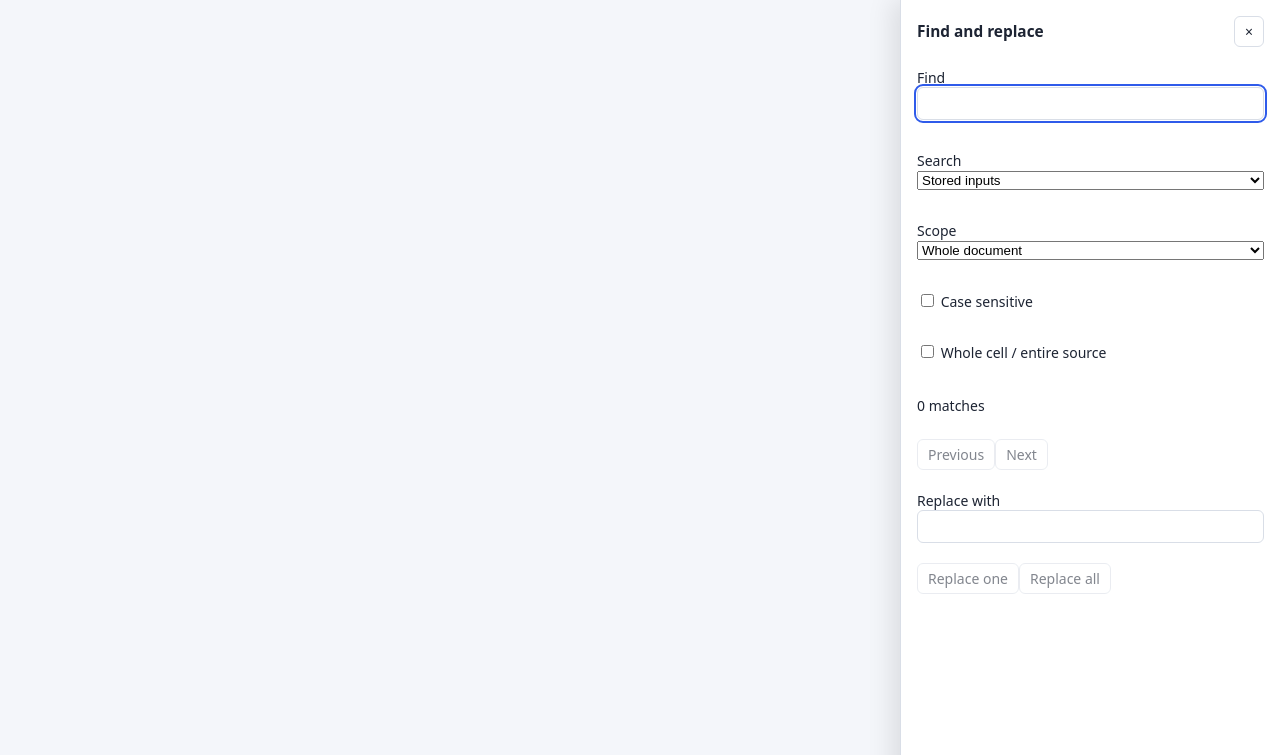
Test: filters by page and block and searches every stored source
Type "cat" into the field named "Find text" at coordinates (1090, 103), box 917,86 -> 1264,120
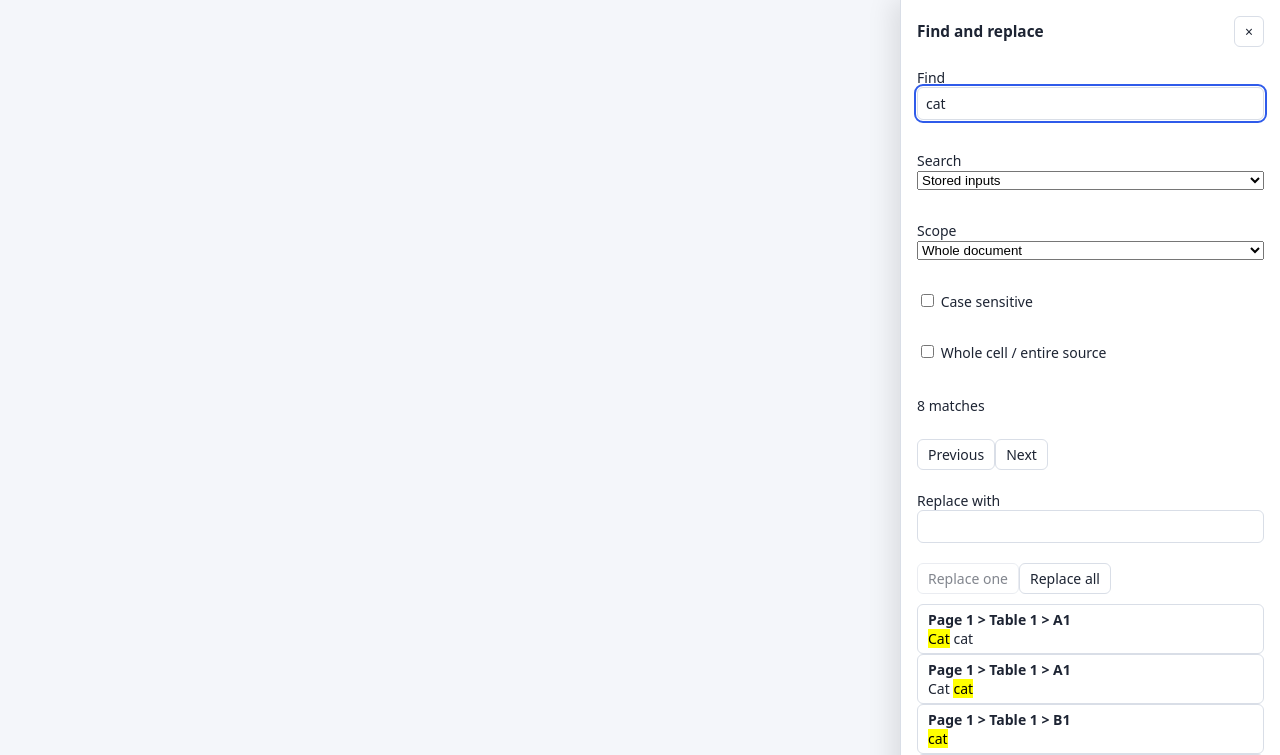
Expected: the message "8 matches" is shown, 917,396 -> 985,415
Select "Current page" in the dropdown named "Search scope" at coordinates (1090, 250), box 917,240 -> 1264,260
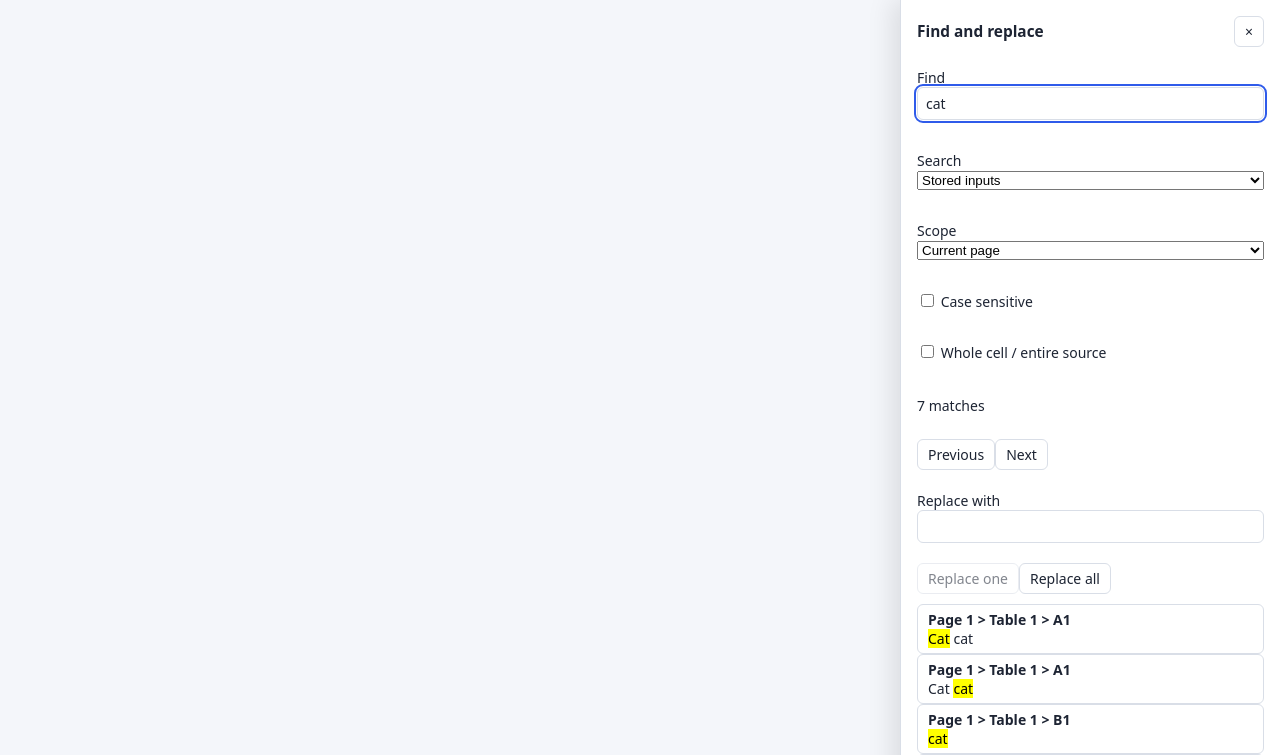
Expected: the message "7 matches" is shown, 917,396 -> 985,415
Select "Current block" in the dropdown named "Search scope" at coordinates (1090, 250), box 917,240 -> 1264,260
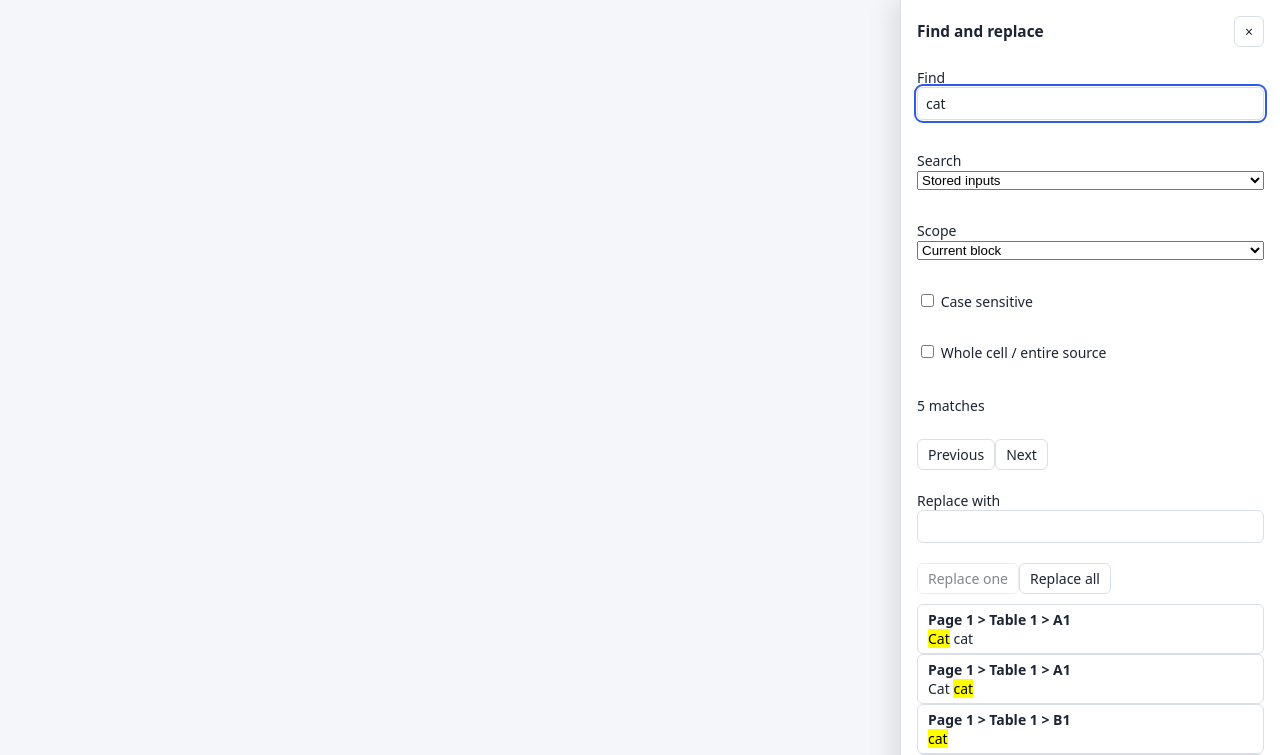
Expected: the message "5 matches" is shown, 917,396 -> 985,415
